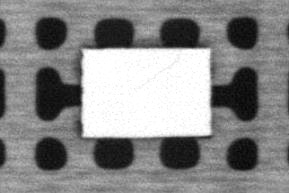DIE_CRACK: (139, 58, 180, 85)
